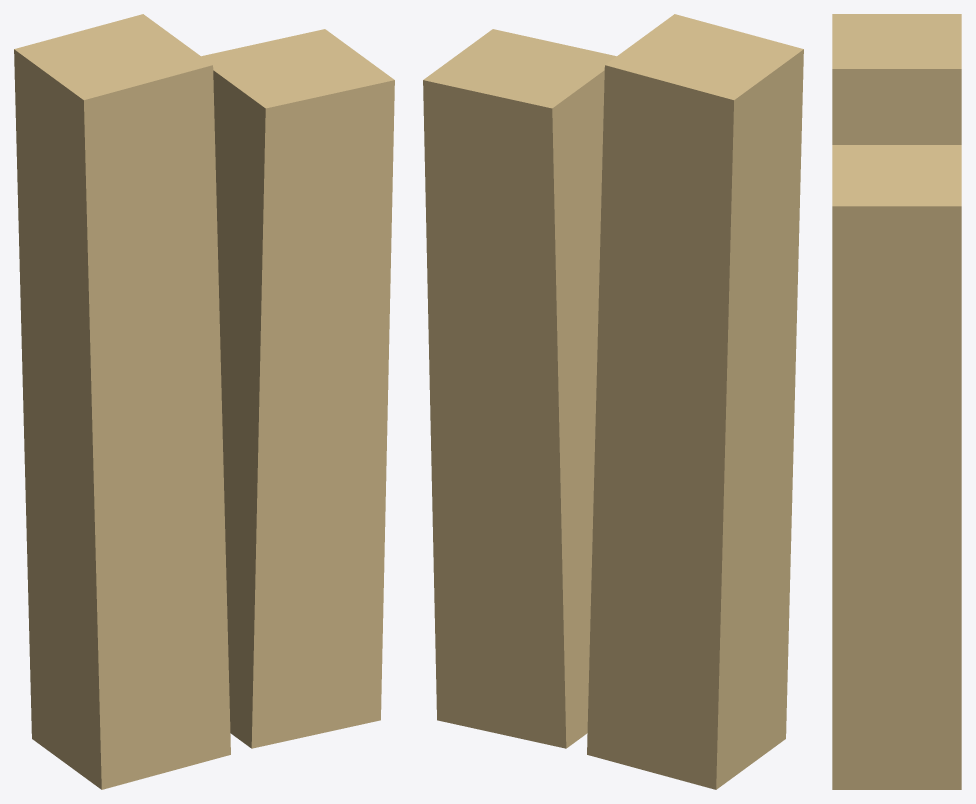
The model's file is hand_bend_finger.FBX.
3 views of the same model, side by side, from view 1: azimuth 30°, elevation 25°; view 2: azimuth 150°, elevation 25°; view 3: azimuth 270°, elevation 25° (orthographic). The views are drawn at different scales.
Visible parts, largest first — view 1: bend_finger; view 2: bend_finger; view 3: bend_finger.
Boxes of the visible parts, x1,y1,x2,y2 form: bend_finger: (14,14,394,789); bend_finger: (423,14,803,789); bend_finger: (832,14,961,789).
Bounding box in the file's own units: 21.76 × 46.64 × 8.46.
